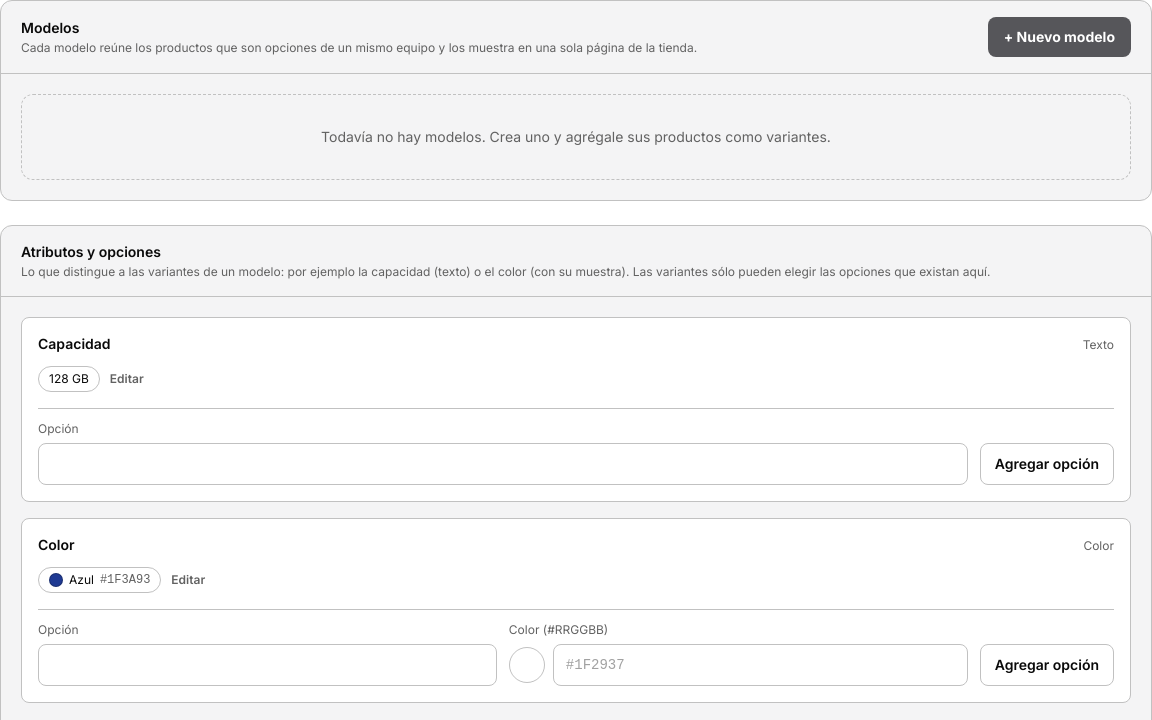
muestra de color de una opción › un color mal escrito no se envía y se dice junto al campo
Type "Verde" into the field labelled "Opción" below "Color (#RRGGBB)" at (267, 665), box x1=38 y1=644 x2=497 y2=686
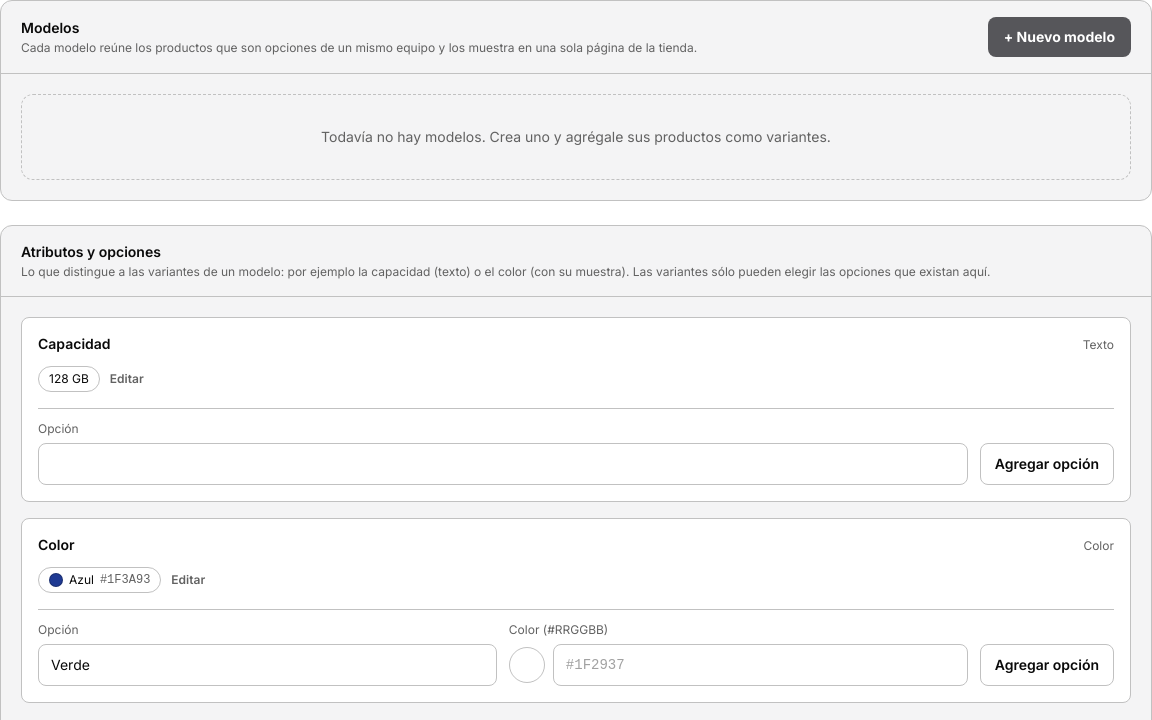
Type "#12345" into the field labelled "Color (#RRGGBB)" at (760, 665), box x1=553 y1=644 x2=968 y2=686
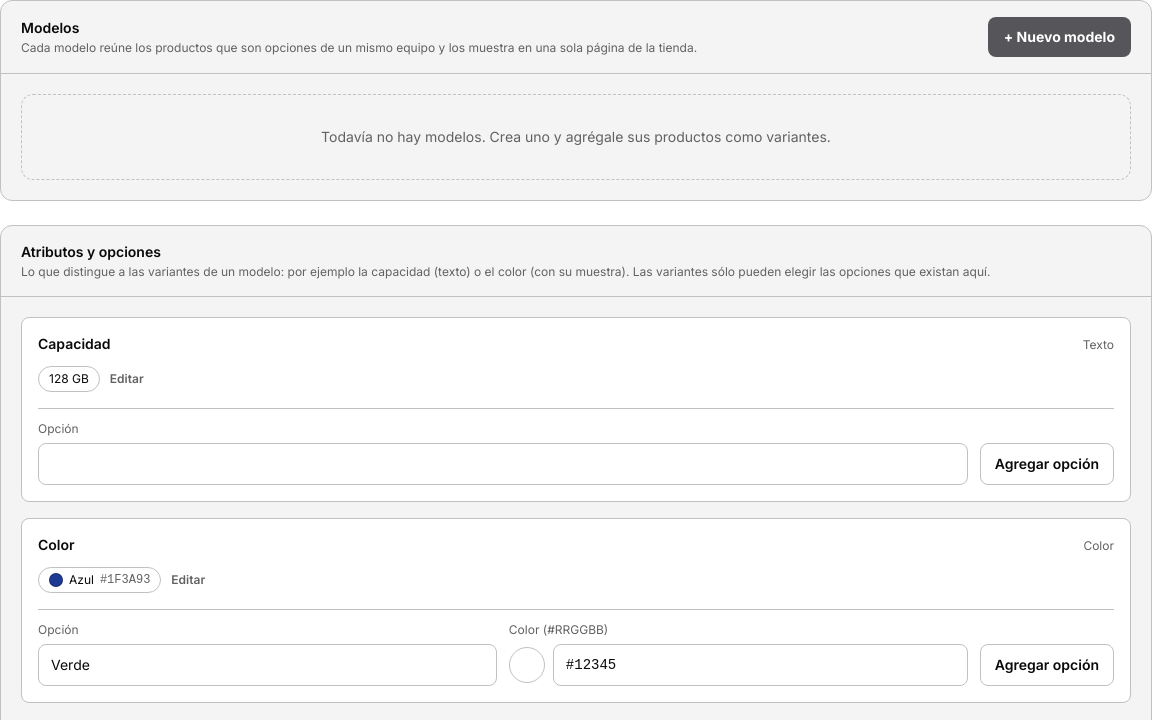
Click the 2nd button "Agregar opción" at (1047, 665), box x1=980 y1=644 x2=1114 y2=686
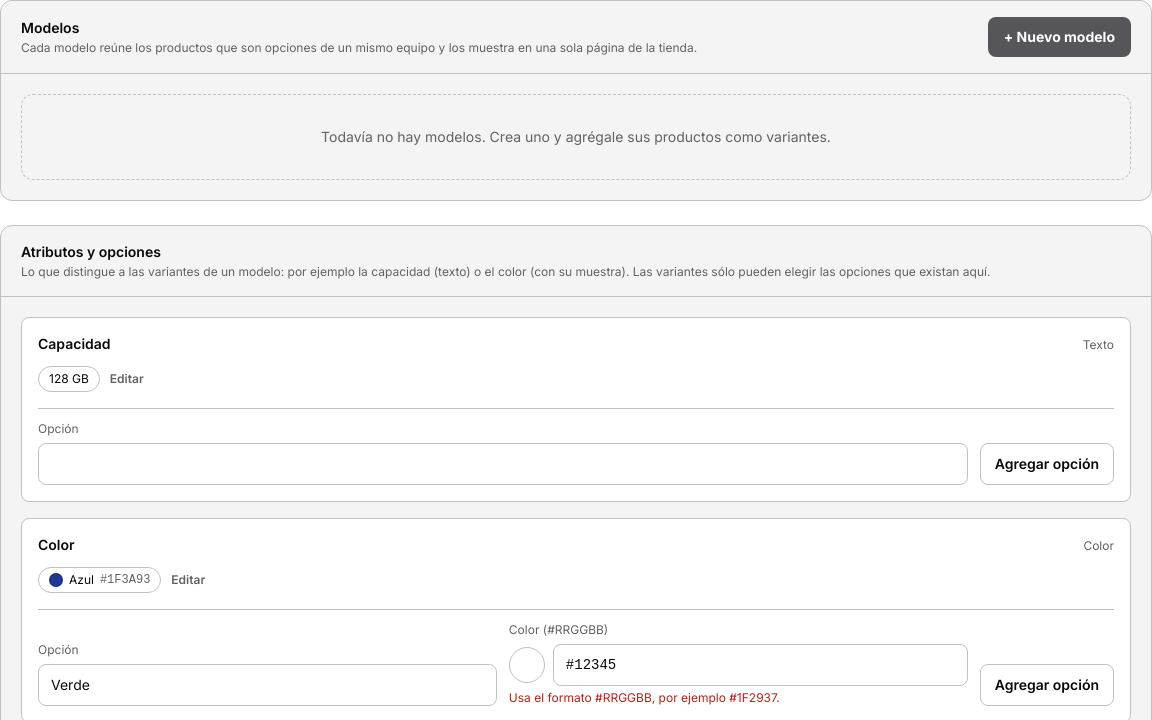
Check: the message shows "Usa el formato #RRGGBB", box x1=509 y1=690 x2=780 y2=705
